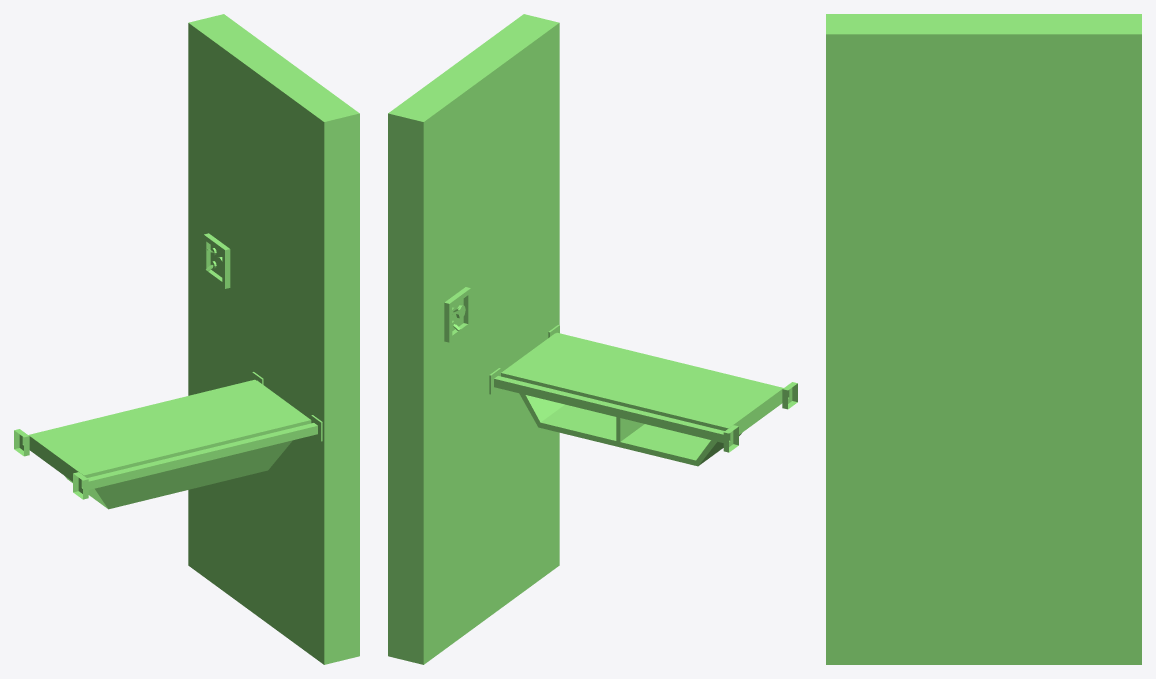
File: SM_ShootingLane.fbx
The picture shows the model from 3 angles, left to right: view 1: azimuth 30°, elevation 25°; view 2: azimuth 150°, elevation 25°; view 3: azimuth 270°, elevation 25°; orthographic projection. The views are drawn at different scales.
Visible parts, largest first — view 1: ShootingRange_Assets1; view 2: ShootingRange_Assets1; view 3: ShootingRange_Assets1.
Part boxes in pixels (x1=…): ShootingRange_Assets1: x1=14, y1=14, x2=359, y2=664; ShootingRange_Assets1: x1=388, y1=14, x2=797, y2=664; ShootingRange_Assets1: x1=826, y1=14, x2=1141, y2=664.
Size of the model in its own units: 120 by 226 by 102.
